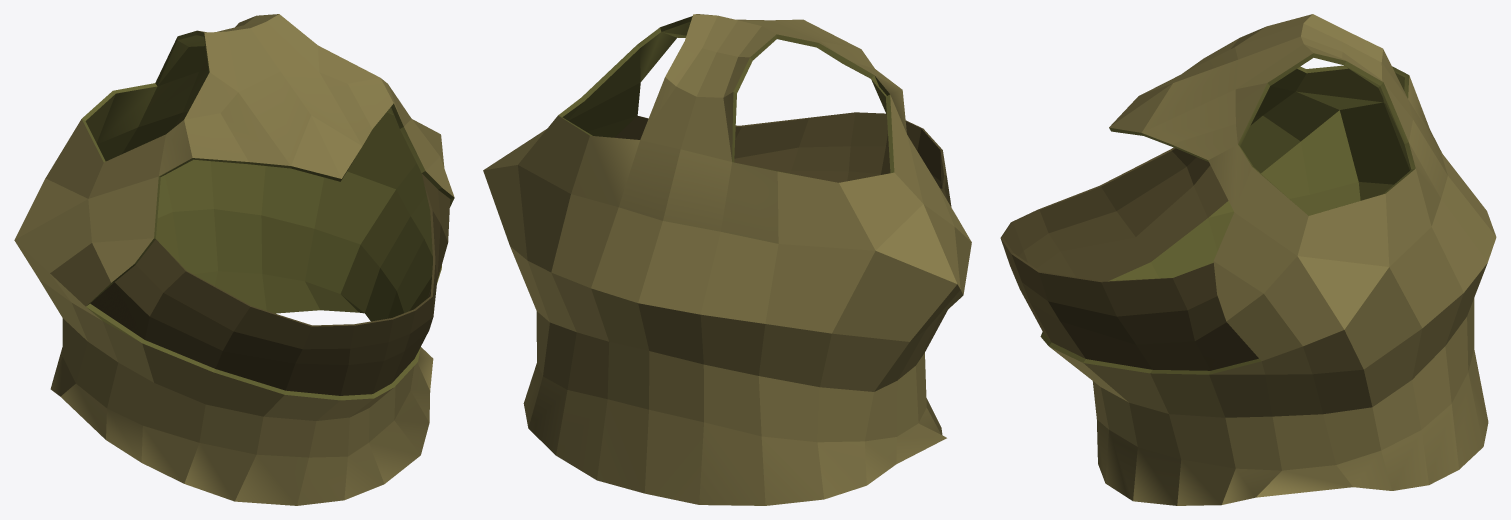
The model's file is Elmo_Set_5.fbx.
3 renders of one model, left to right at view 1: azimuth 30°, elevation 25°; view 2: azimuth 150°, elevation 25°; view 3: azimuth 270°, elevation 25°, orthographic. The views are drawn at different scales.
Parts seen in each view (by area): view 1: polySurface1.021; view 2: polySurface1.021; view 3: polySurface1.021.
Part boxes in pixels (x1=…): polySurface1.021: x1=14, y1=14, x2=454, y2=505; polySurface1.021: x1=483, y1=14, x2=971, y2=505; polySurface1.021: x1=1000, y1=14, x2=1496, y2=505.
Size of the model in its own units: 64.17 by 57.73 by 60.41.
